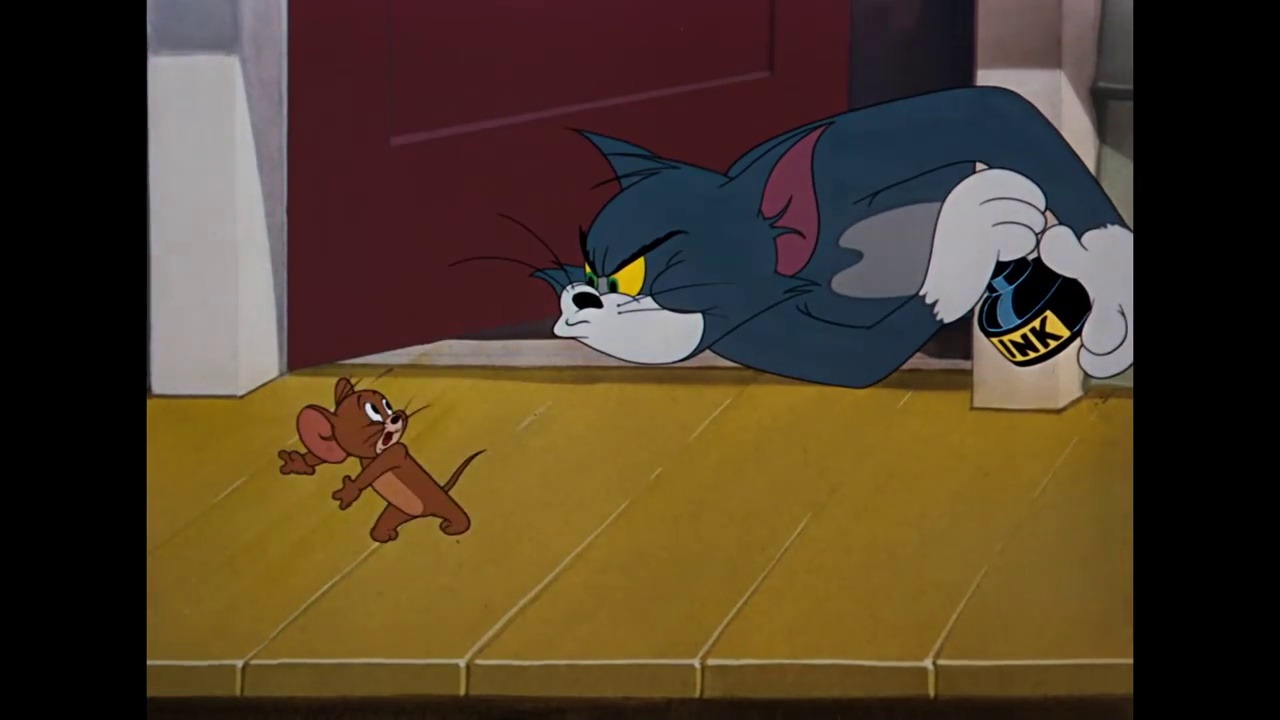tom: (529, 115, 856, 375)
